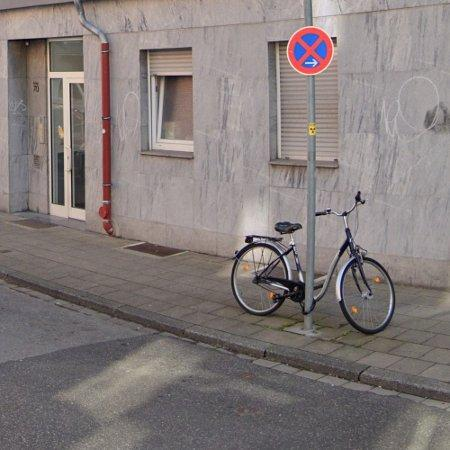bicycles: (232, 223, 305, 315)
